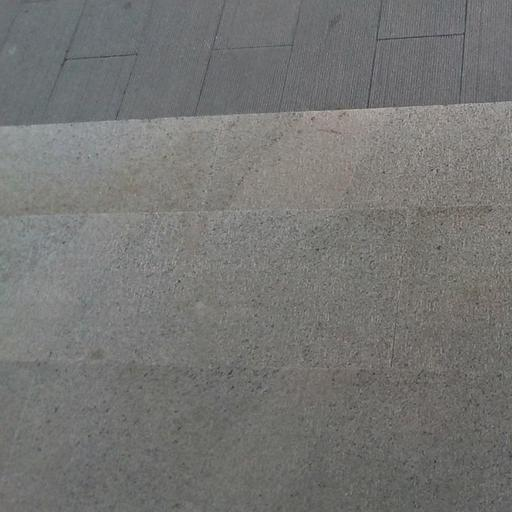stairs: (0, 103, 511, 511)
